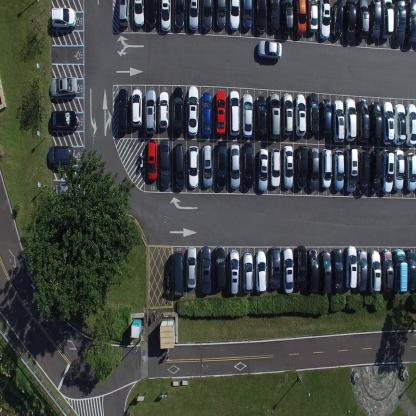car: (186, 86, 199, 136), (49, 6, 76, 30), (50, 109, 79, 131), (393, 249, 407, 294), (171, 251, 184, 299), (268, 92, 281, 140), (50, 75, 77, 98), (159, 138, 171, 189), (345, 146, 358, 193), (173, 142, 185, 192), (242, 140, 254, 190), (200, 143, 213, 189), (295, 144, 308, 190), (48, 144, 75, 166), (229, 142, 241, 191), (332, 99, 345, 144), (382, 100, 395, 145), (381, 148, 394, 193), (294, 93, 307, 137), (332, 148, 345, 192), (345, 244, 358, 288), (368, 249, 381, 293), (214, 89, 226, 136), (282, 247, 294, 294), (307, 247, 319, 294), (145, 88, 157, 134), (117, 87, 129, 133), (357, 97, 369, 143), (172, 86, 183, 136), (269, 245, 281, 290), (282, 144, 294, 189), (394, 0, 406, 45), (295, 245, 307, 290), (200, 246, 211, 295), (370, 150, 383, 191), (318, 0, 331, 41), (356, 0, 369, 41), (369, 0, 382, 41), (381, 0, 394, 41), (200, 92, 212, 136), (187, 145, 199, 189), (146, 138, 158, 182), (216, 140, 227, 188), (229, 89, 240, 137), (228, 248, 239, 296), (282, 92, 294, 136), (344, 97, 356, 141), (344, 0, 356, 44), (257, 39, 282, 60), (214, 245, 225, 292), (319, 250, 331, 293), (242, 92, 253, 138), (370, 100, 381, 146), (320, 146, 332, 188), (358, 151, 369, 196), (308, 145, 319, 190), (332, 248, 343, 293), (382, 248, 393, 293), (131, 87, 143, 128), (394, 103, 406, 144), (186, 246, 197, 290), (255, 250, 266, 294), (256, 94, 267, 138), (257, 148, 268, 192), (394, 148, 405, 192), (294, 0, 307, 37), (158, 90, 170, 130), (404, 151, 416, 191), (242, 251, 253, 294), (308, 91, 319, 134), (331, 0, 342, 42), (254, 0, 267, 35), (281, 0, 294, 35), (270, 147, 281, 188), (320, 98, 331, 138), (357, 248, 367, 292), (268, 0, 280, 35), (406, 248, 416, 290), (406, 0, 415, 46), (118, 0, 131, 30), (406, 102, 415, 145), (307, 0, 318, 34), (188, 0, 199, 32), (229, 0, 240, 30), (241, 0, 252, 30), (133, 0, 145, 27), (161, 0, 171, 32), (146, 0, 157, 29), (215, 0, 226, 29), (174, 0, 184, 30), (202, 0, 212, 30)
